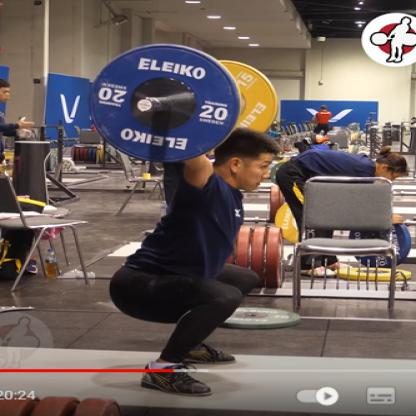Barbell: (81, 36, 251, 166)
